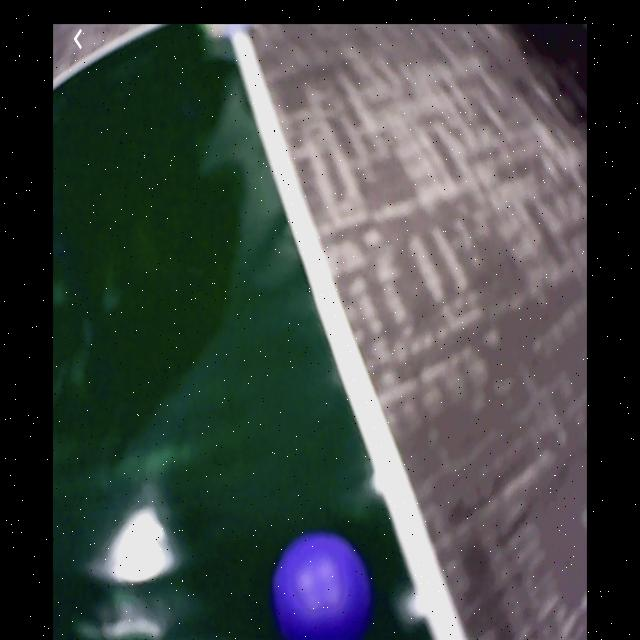ball: (274, 535, 373, 640)
